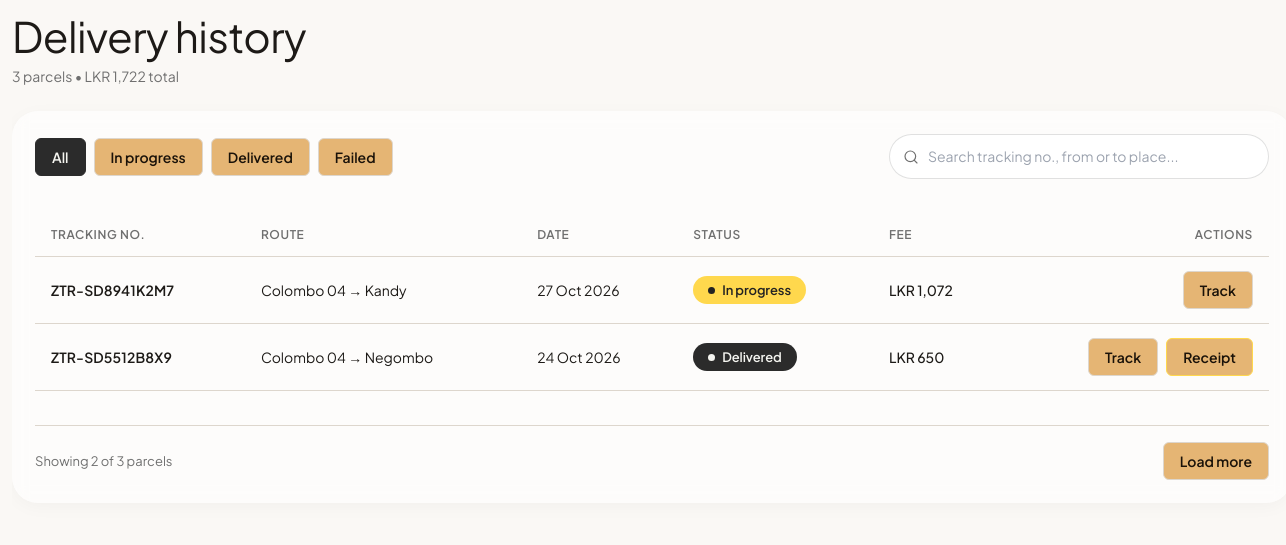
Test case: HistoryPage Component › does not append duplicate deliveries when loading more pages
Expected: the text "Showing 2 of 3 parcels" is shown, x1=35 y1=452 x2=172 y2=471
Click the button "Load more": (1216, 461) x1=1163 y1=442 x2=1269 y2=480
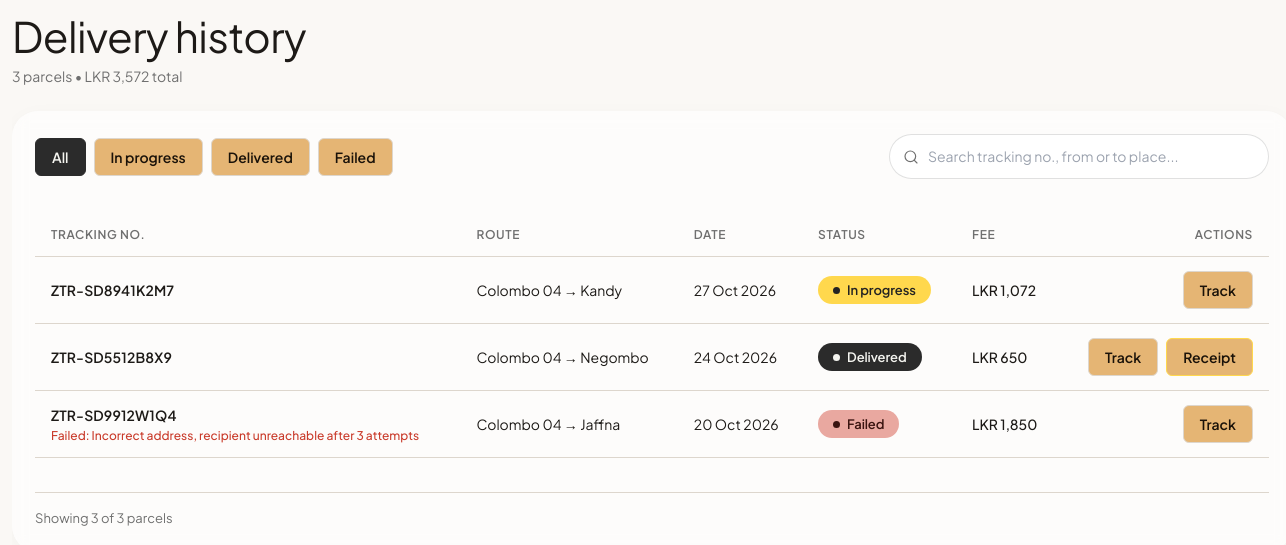
Expected: the text "Showing 3 of 3 parcels" is shown, x1=35 y1=509 x2=173 y2=529
